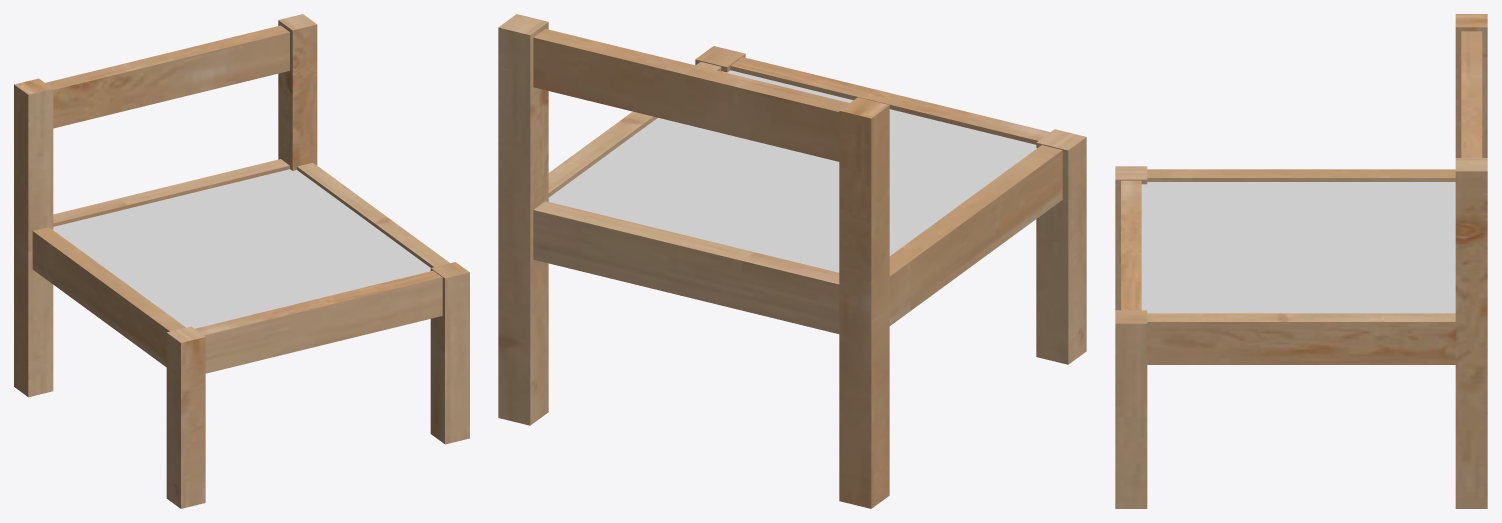
File: sh-scopia-children-chair.glb
3 renders of one model, left to right at view 1: azimuth 30°, elevation 25°; view 2: azimuth 150°, elevation 25°; view 3: azimuth 270°, elevation 25°, orthographic. The views are drawn at different scales.
Visible parts, largest first — view 1: chair_Cube.001; view 2: chair_Cube.001; view 3: chair_Cube.001.
Boxes of the visible parts, x1,y1,x2,y2 form: chair_Cube.001: (14, 14, 469, 508); chair_Cube.001: (498, 14, 1086, 508); chair_Cube.001: (1115, 14, 1487, 508).
Size of the model in its own units: 1 by 1 by 1.
2 materials, 1 textured.
